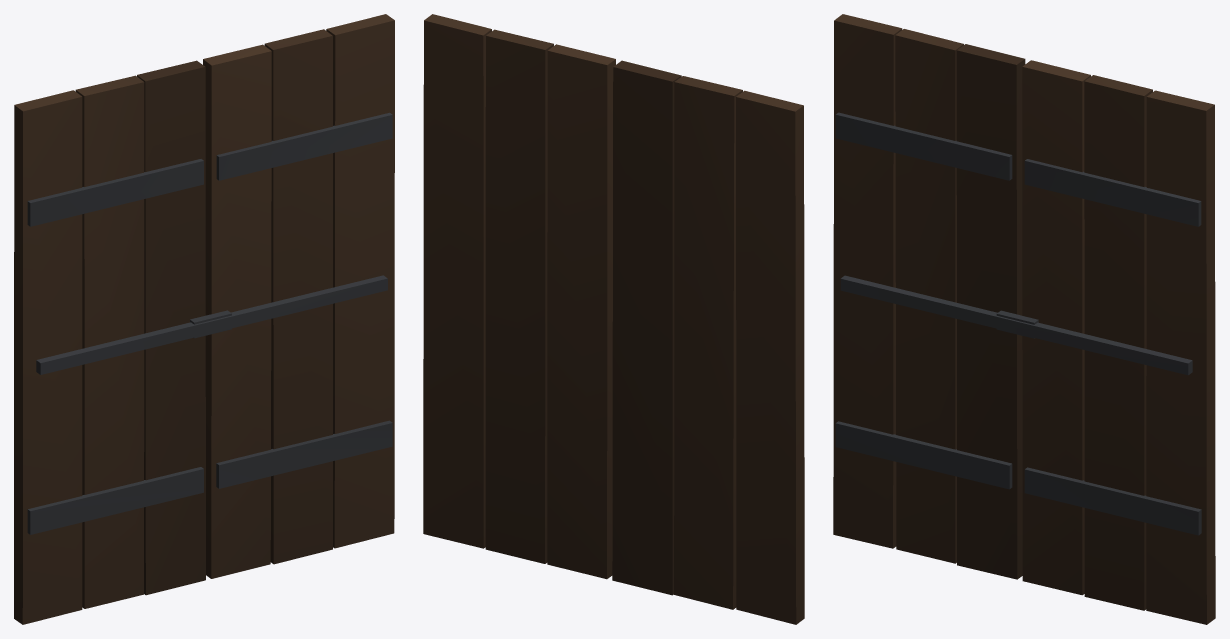
File: ph_int_surgery_shutters.glb
The picture shows the model from 3 angles, left to right: view 1: azimuth 30°, elevation 25°; view 2: azimuth 150°, elevation 25°; view 3: azimuth 330°, elevation 25°; orthographic projection.
Visible parts, largest first — view 1: ph_int_surgery_shutters; view 2: ph_int_surgery_shutters; view 3: ph_int_surgery_shutters.
Boxes of the visible parts, box(x1,y1,x2,y2) form: ph_int_surgery_shutters: box(14, 14, 394, 624); ph_int_surgery_shutters: box(423, 14, 804, 624); ph_int_surgery_shutters: box(833, 14, 1215, 624).
Size of the model in its own units: 0.9865 by 1.3 by 0.067.
